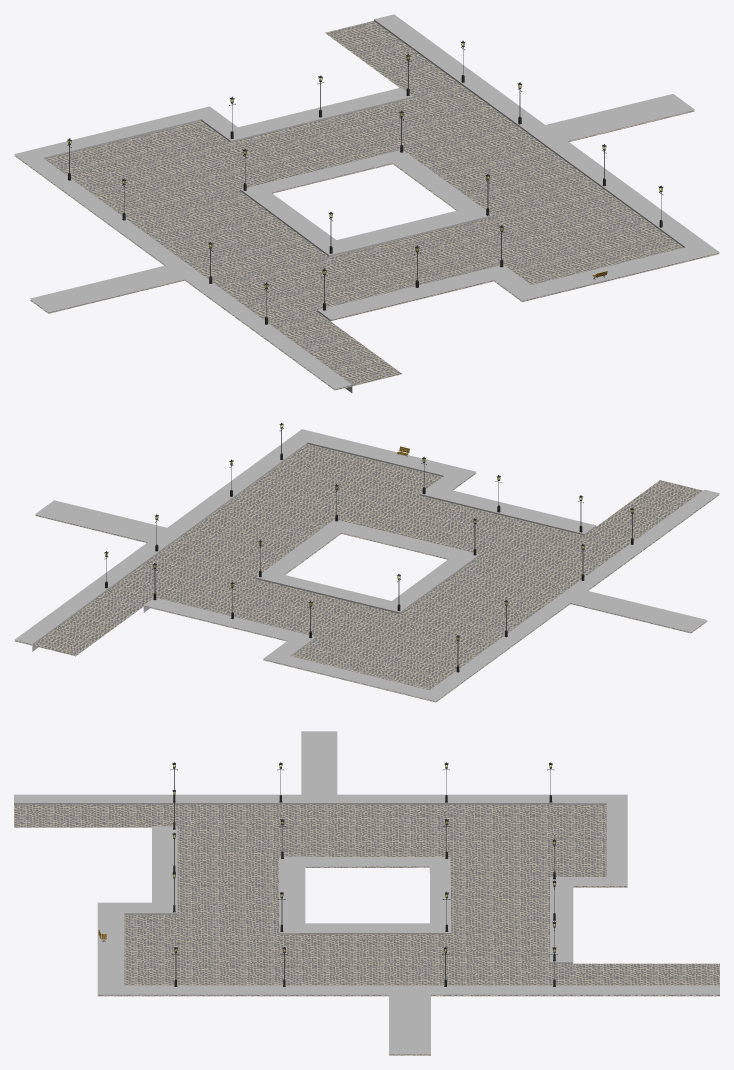
Rendered from Lamps.fbx.
3 views of the same model, one above another, from view 1: azimuth 30°, elevation 25°; view 2: azimuth 150°, elevation 25°; view 3: azimuth 270°, elevation 25° (orthographic). The views are drawn at different scales.
Visible parts, largest first — view 1: base_Floor_2, base_Floor_5; view 2: base_Floor_2, base_Floor_5; view 3: base_Floor_2, base_Floor_5.
Part boxes in pixels (x1,y1,x2,y2): base_Floor_2: (14,21,719,390); base_Floor_5: (14,14,719,392); base_Floor_2: (14,444,719,702); base_Floor_5: (14,429,719,700); base_Floor_2: (14,804,719,1055); base_Floor_5: (14,731,719,1054).
Bounding box in the file's own units: 889 × 62.14 × 821.
